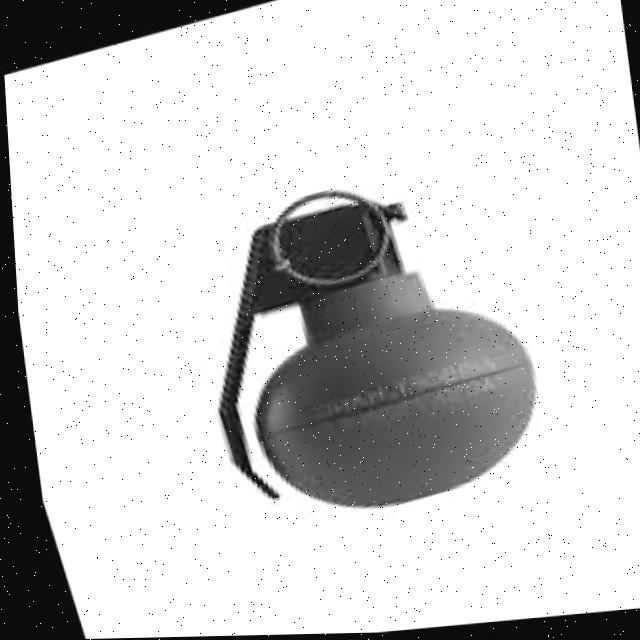grenade: (148, 158, 564, 568)
